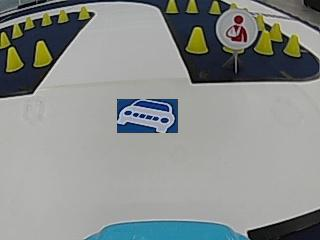cone: (186, 26, 209, 54), (33, 40, 52, 67), (5, 46, 23, 71), (255, 31, 273, 54), (284, 34, 301, 57), (270, 22, 281, 41), (0, 31, 11, 47), (165, 1, 178, 14), (208, 1, 221, 14), (77, 6, 89, 20), (57, 9, 69, 23), (12, 23, 23, 38), (186, 1, 198, 13), (41, 12, 52, 25), (24, 16, 35, 29)
patient: (223, 8, 253, 48)
